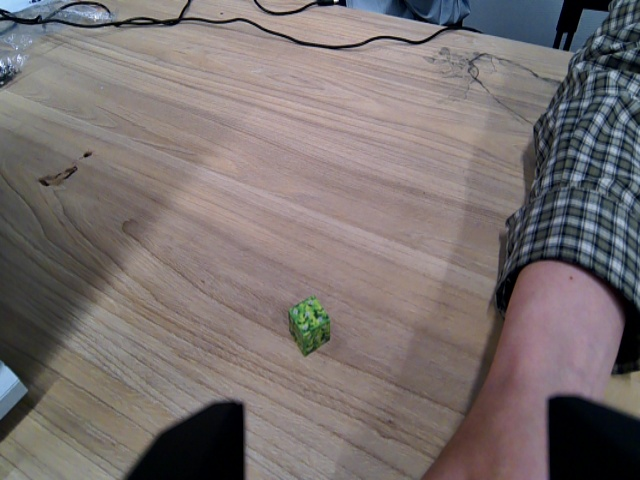grass: (288, 293, 333, 356)
